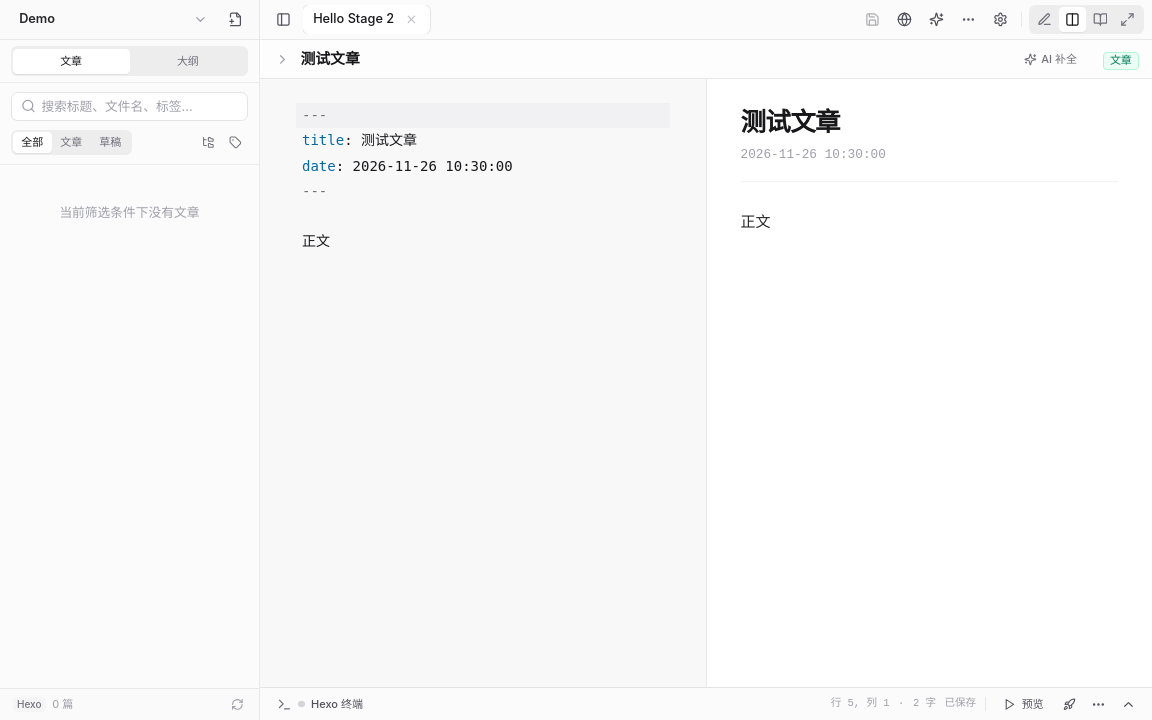
it: Stage 2 workbench integration › auto-opens exact active post permalink in browser when user starts hexo server and allows manual re-open from drawer
Later steps or results of the test are not shown.
Click the button "预览" at (1023, 704), box [994,691,1052,717]
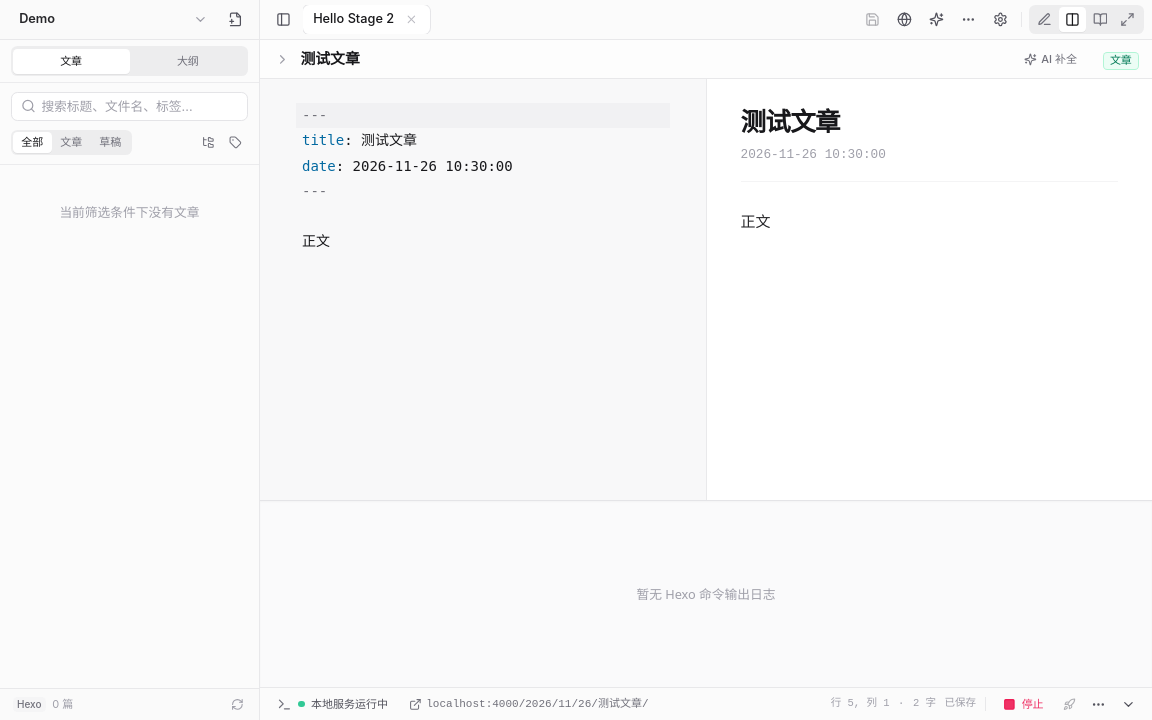
expect the button titled "http://localhost:4000/2026/11/26/测试文章/" is shown: met, box [403,694,655,714]
